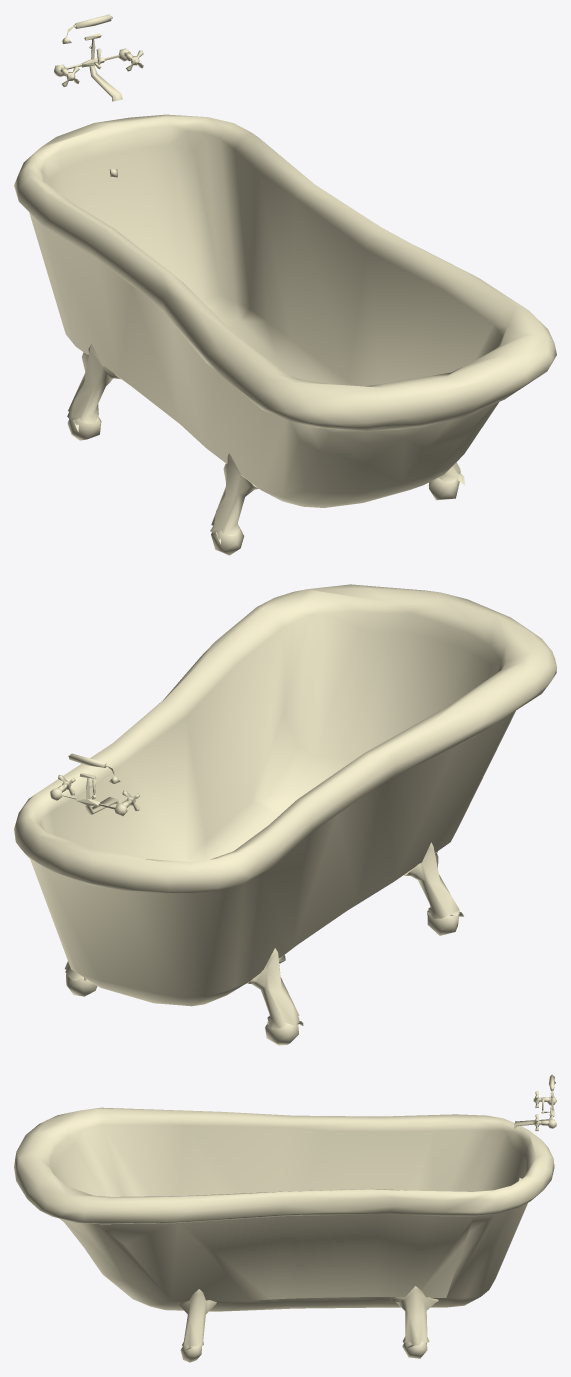
The model's file is bathtub.fbx.
3 views of the same model, one above another, from view 1: azimuth 30°, elevation 25°; view 2: azimuth 150°, elevation 25°; view 3: azimuth 270°, elevation 25° (orthographic). The views are drawn at different scales.
Parts seen in each view (by area): view 1: bathtub; view 2: bathtub; view 3: bathtub.
Part boxes in pixels (left/top/right/bottom): bathtub: left=14, top=14, right=556, bottom=555; bathtub: left=14, top=584, right=556, bottom=1045; bathtub: left=14, top=1074, right=556, bottom=1362.
Bounding box in the file's own units: 1.03 × 1.13 × 2.29.
